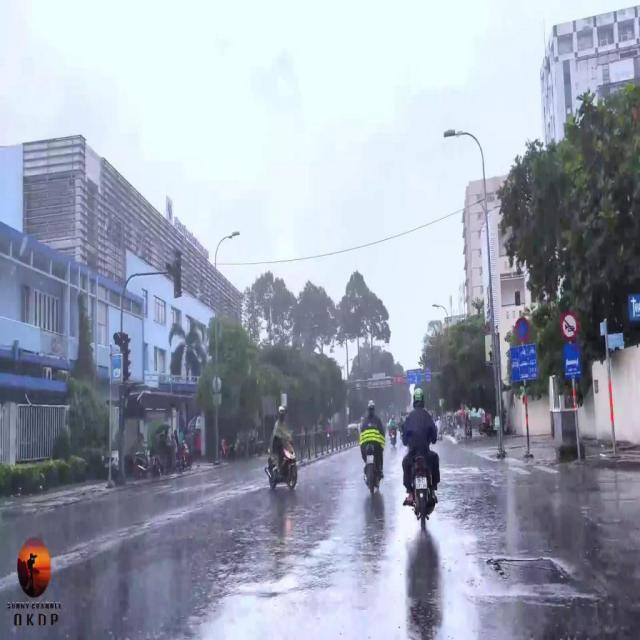128-cam-su-dung-coi: (562, 311, 578, 339)
131a-cam-do-xe: (514, 318, 530, 340)
